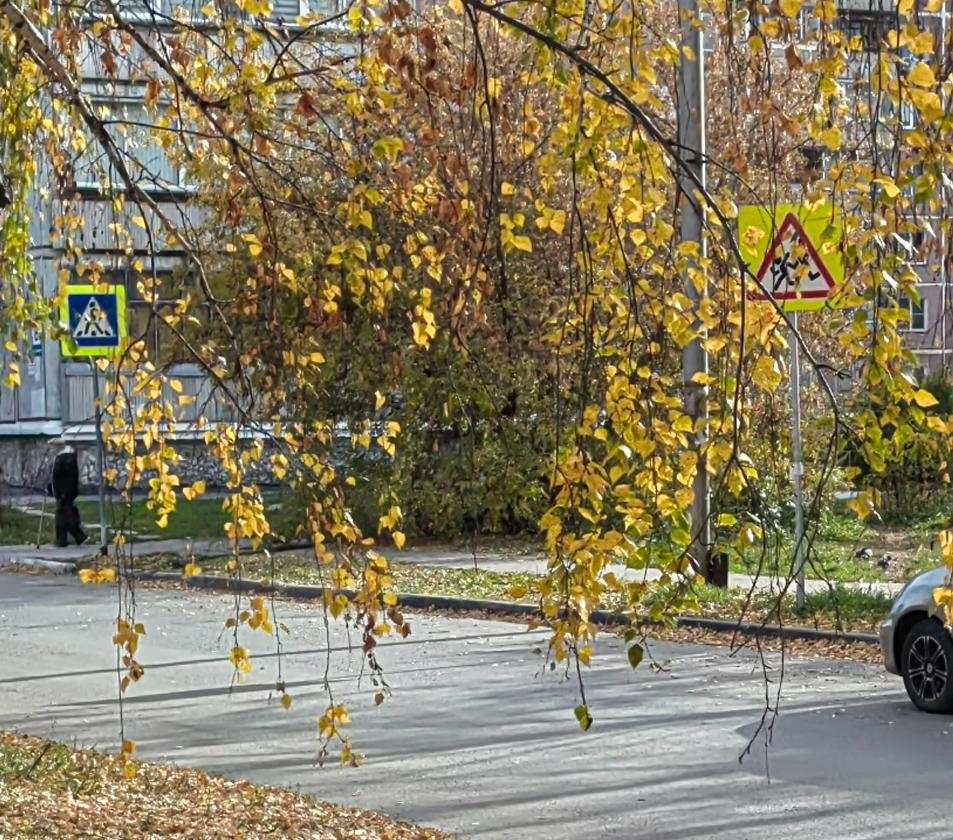obstructed_road_sign: (739, 201, 844, 312), (60, 285, 127, 357)
